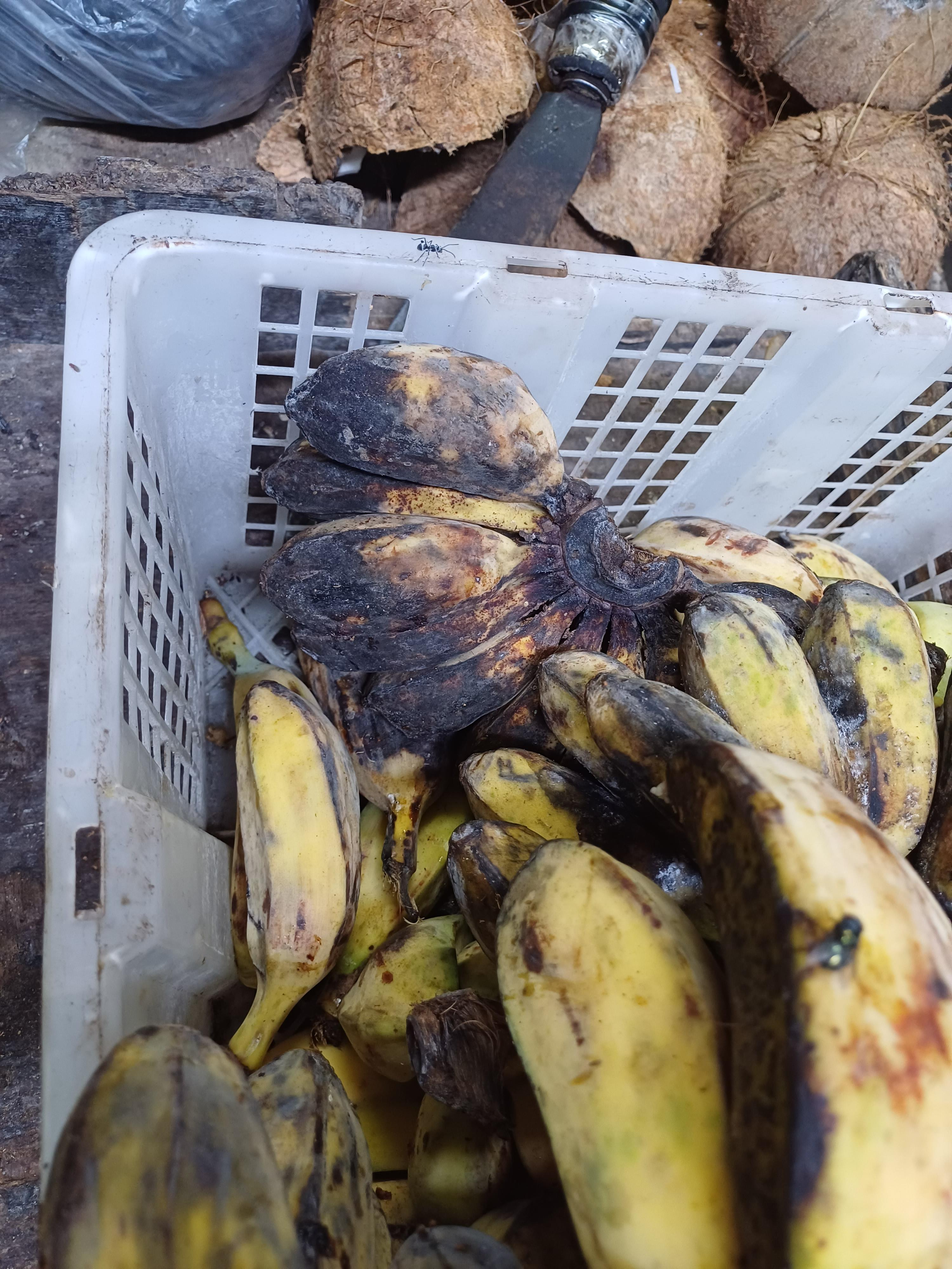overripe: (261, 345, 612, 736)
ripe: (499, 741, 952, 1269), (447, 581, 937, 959)
underripe: (41, 1025, 392, 1269)
